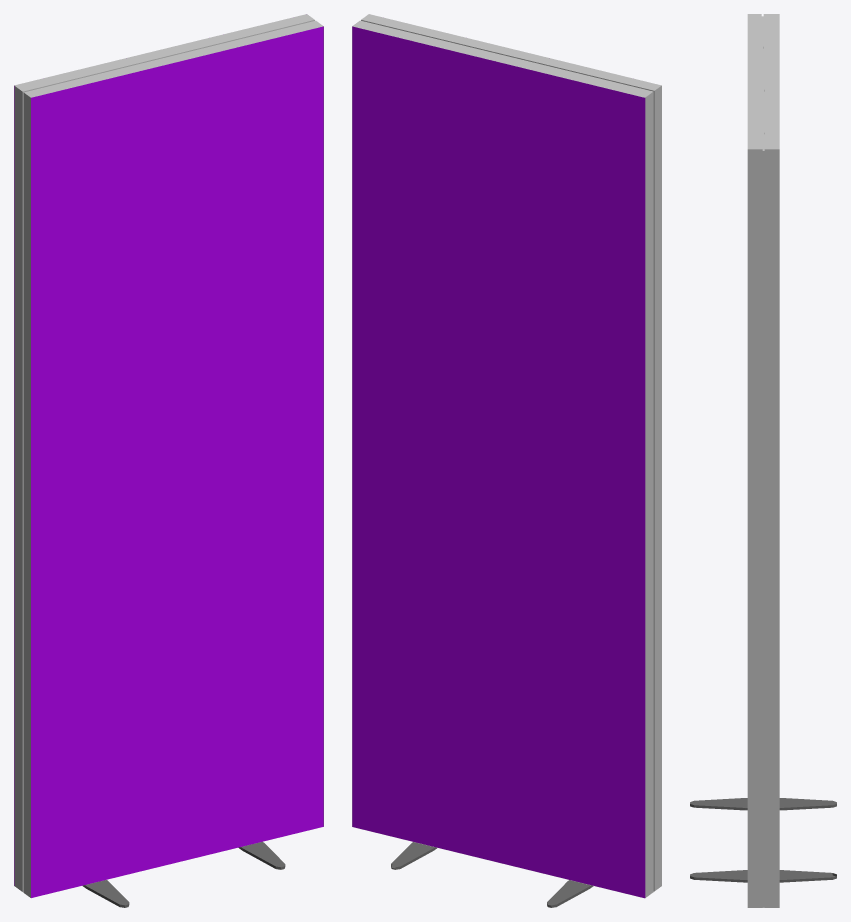
File: 3ft SEG.glb
3 views of the same model, side by side, from view 1: azimuth 30°, elevation 25°; view 2: azimuth 150°, elevation 25°; view 3: azimuth 270°, elevation 25° (orthographic). The views are drawn at different scales.
Parts seen in each view (by area): view 1: SEG 3ft; view 2: SEG 3ft; view 3: SEG 3ft.
Boxes of the visible parts, x1,y1,x2,y2 form: SEG 3ft: (14,14,323,907); SEG 3ft: (352,14,661,907); SEG 3ft: (690,14,836,907).
Bounding box in the file's own units: 0.9144 × 2.4 × 0.4191.
